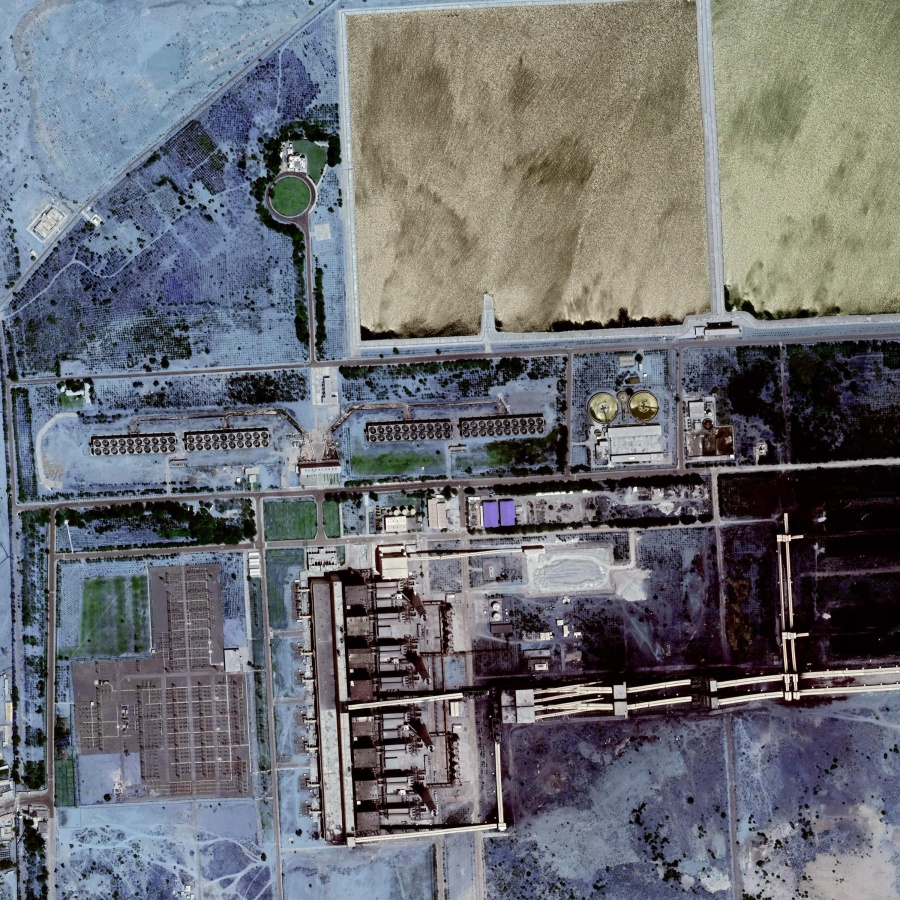PowerPlant: (303, 549, 502, 834)
